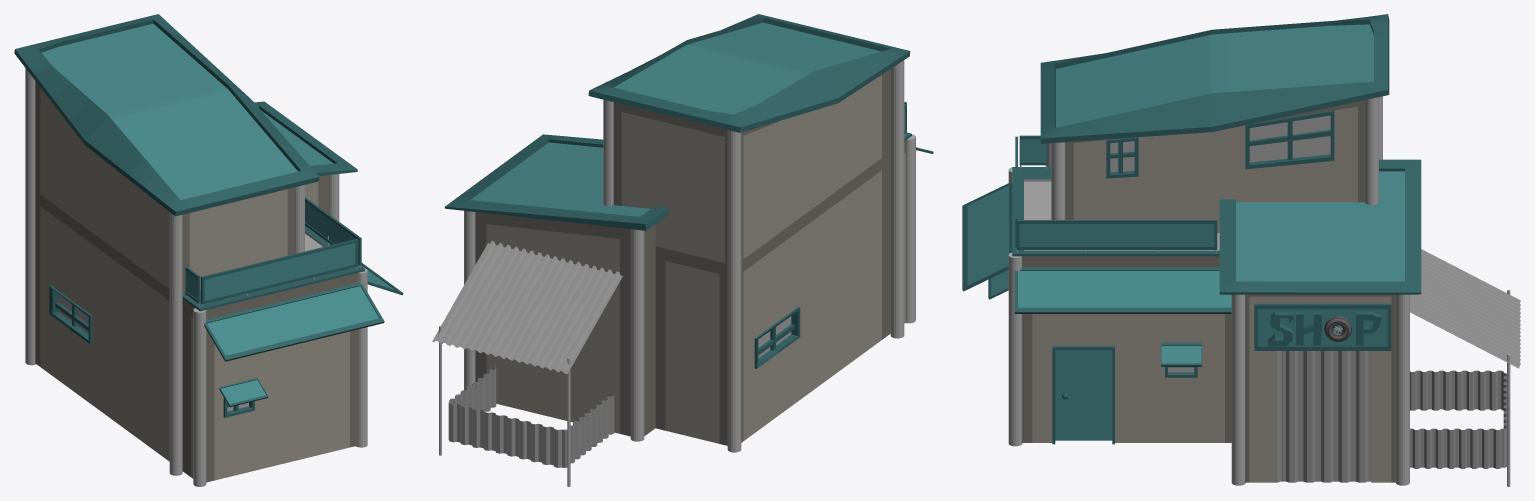
The model's file is Slum 4.fbx.
The picture shows the model from 3 angles, left to right: view 1: azimuth 30°, elevation 25°; view 2: azimuth 150°, elevation 25°; view 3: azimuth 270°, elevation 25°; orthographic projection. The views are drawn at different scales.
Parts seen in each view (by area): view 1: pCylinder25; view 2: pCylinder25; view 3: pCylinder25.
Part boxes in pixels (x1,y1,x2,y2): pCylinder25: (14, 14, 403, 486); pCylinder25: (432, 14, 933, 486); pCylinder25: (962, 14, 1520, 486).
Bounding box in the file's own units: 1.68 × 1.9 × 2.71.
